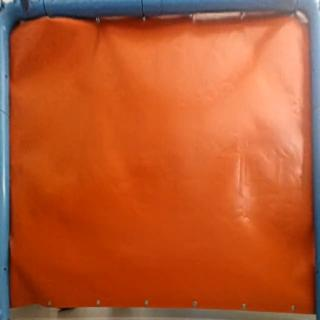Hit-hRxx: (9, 250, 23, 266)
